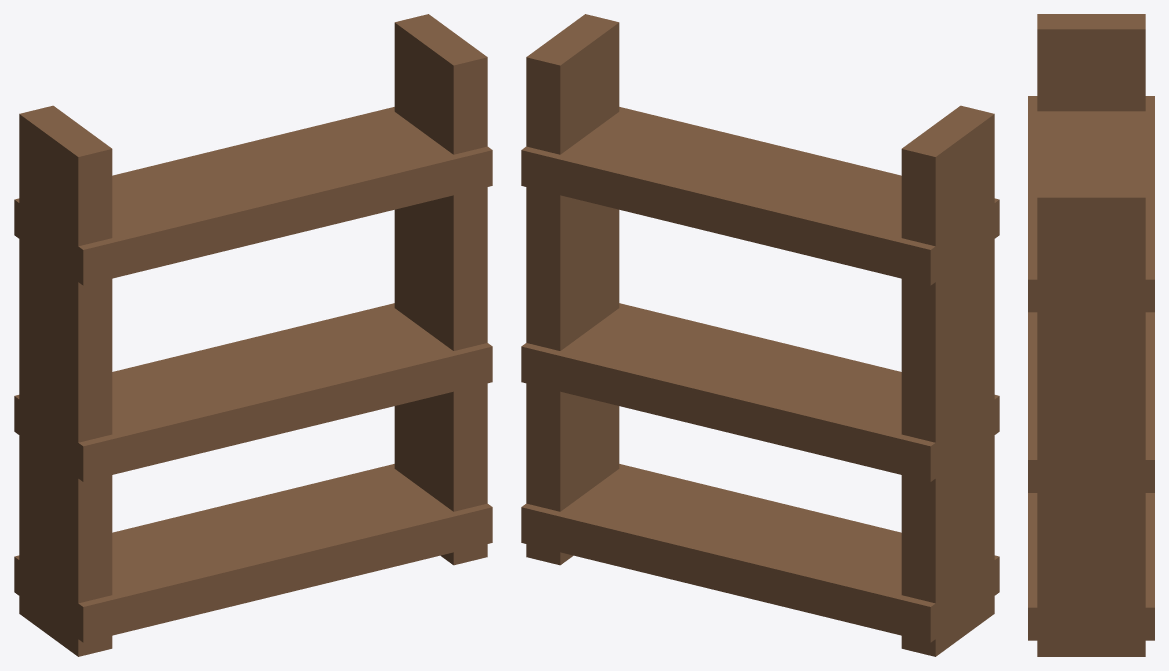
Rendered from prop_bookshelf.glb.
3 views of the same model, side by side, from view 1: azimuth 30°, elevation 25°; view 2: azimuth 150°, elevation 25°; view 3: azimuth 270°, elevation 25° (orthographic). The views are drawn at different scales.
Visible parts, largest first — view 1: prop_bookshelf; view 2: prop_bookshelf; view 3: prop_bookshelf.
Part boxes in pixels (x1,y1,x2,y2): prop_bookshelf: [14, 14, 492, 656]; prop_bookshelf: [521, 14, 999, 656]; prop_bookshelf: [1028, 14, 1154, 656].
Bounding box in the file's own units: 1.2 × 1.4 × 0.35.
Materials: 1 (1 with a texture image).
